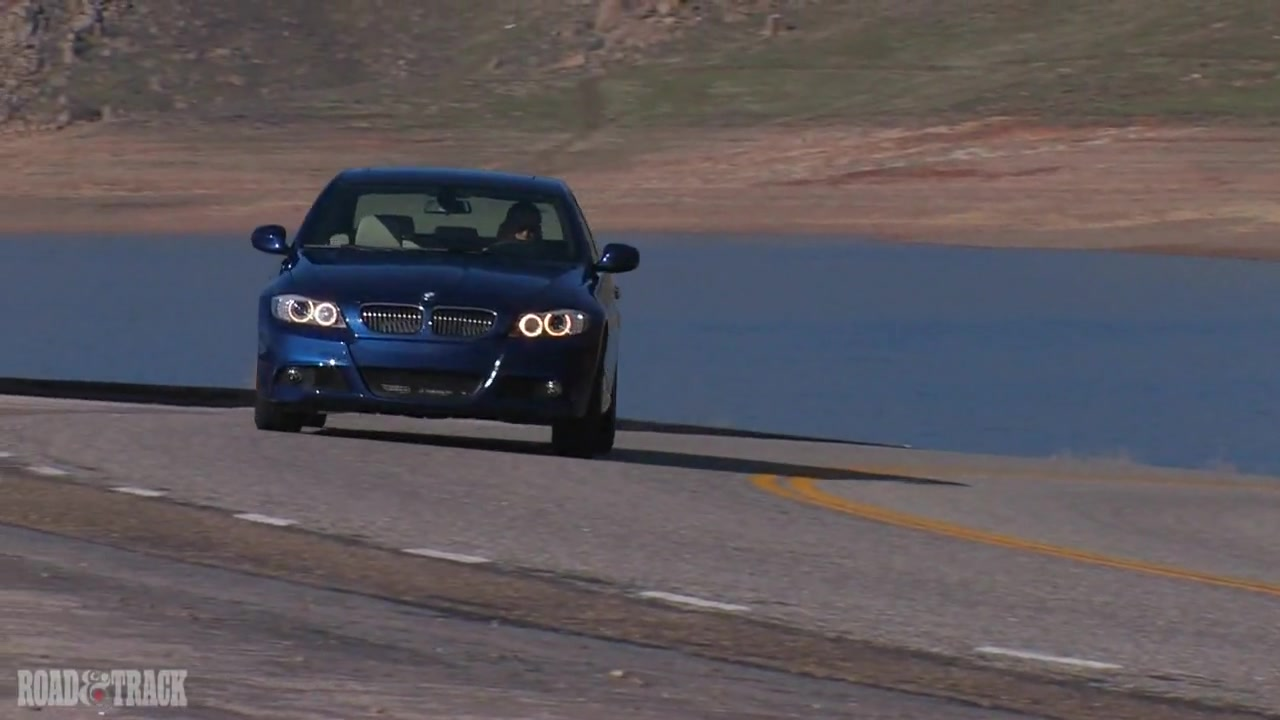car: (250, 164, 642, 462)
